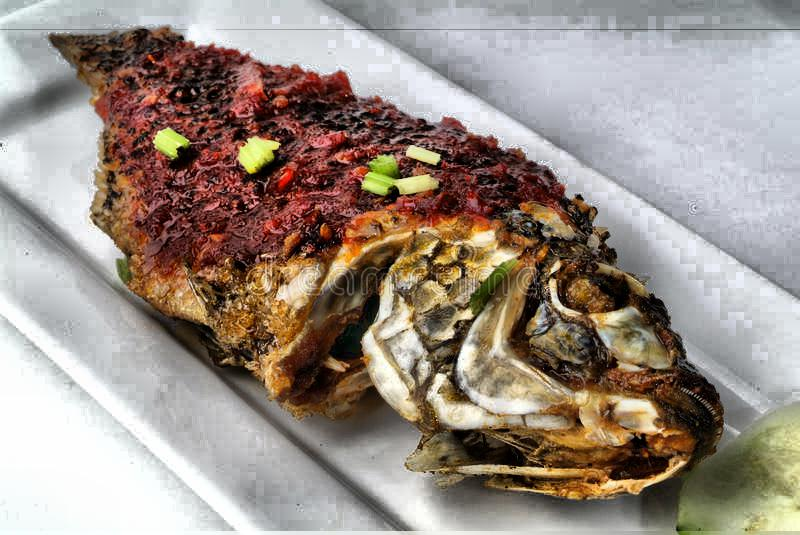fish: (58, 26, 702, 508)
